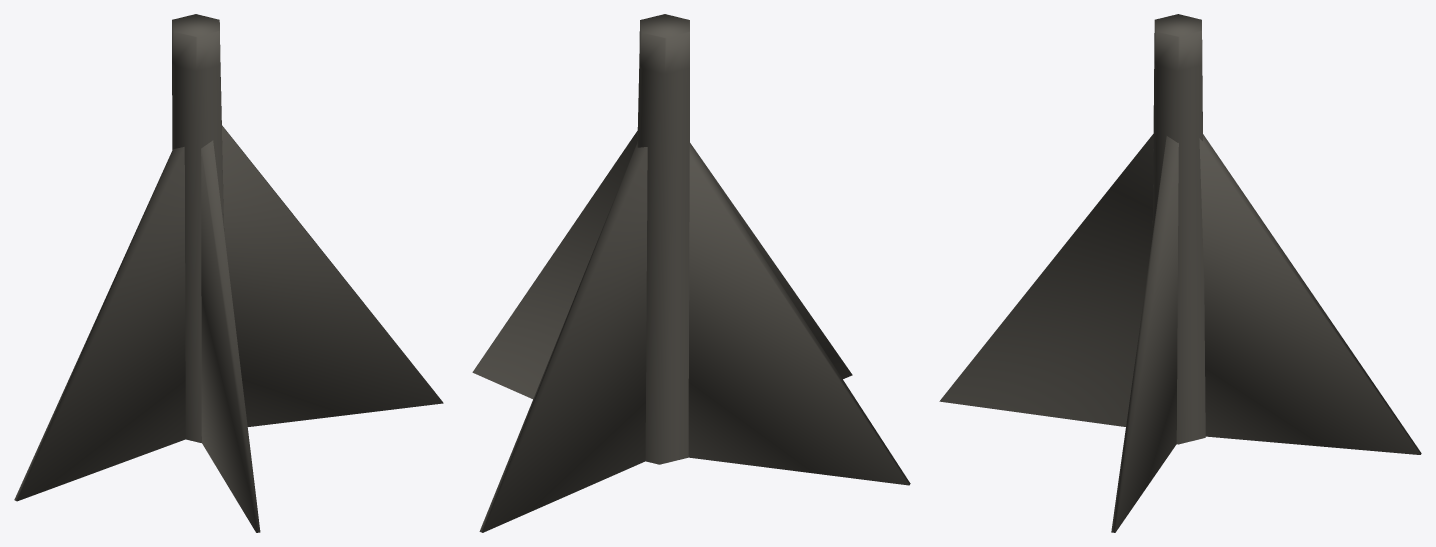
The model's file is broadleaf_c_low.glb.
The picture shows the model from 3 angles, left to right: view 1: azimuth 30°, elevation 25°; view 2: azimuth 150°, elevation 25°; view 3: azimuth 270°, elevation 25°; orthographic projection. The views are drawn at different scales.
Visible parts, largest first — view 1: broadleaf_c_low; view 2: broadleaf_c_low; view 3: broadleaf_c_low.
Part boxes in pixels (x1,y1,x2,y2): broadleaf_c_low: [14, 14, 443, 532]; broadleaf_c_low: [472, 14, 910, 532]; broadleaf_c_low: [939, 14, 1421, 532].
Bounding box in the file's own units: 3.06 × 2.81 × 3.05.
1 material, 1 textured.
